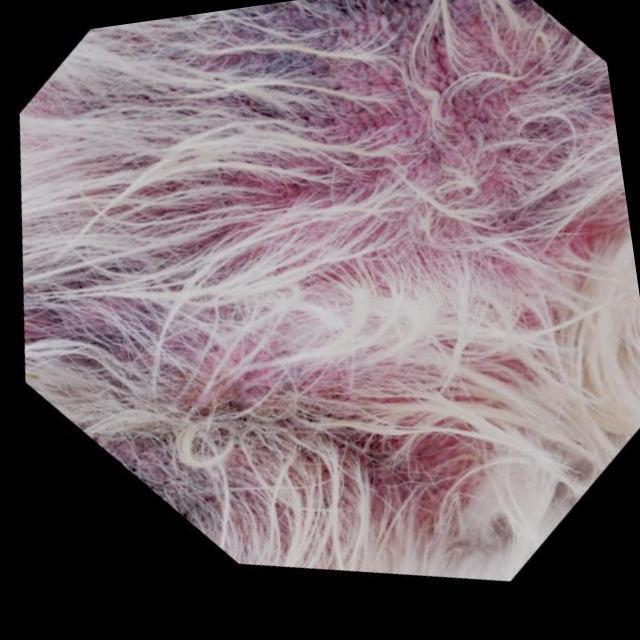fungal infection: (325, 13, 640, 264), (306, 369, 480, 515), (225, 155, 358, 240)
